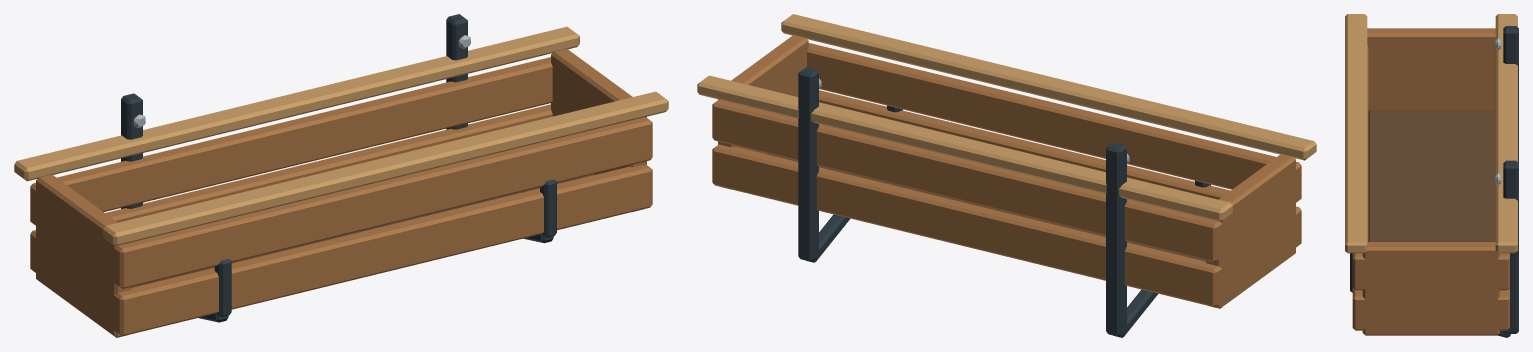
The model's file is b11_window_flower_box_empty.glb.
3 views of the same model, side by side, from view 1: azimuth 30°, elevation 25°; view 2: azimuth 150°, elevation 25°; view 3: azimuth 270°, elevation 25° (orthographic). The views are drawn at different scales.
Parts seen in each view (by area): view 1: b11_window_flower_box_empty; view 2: b11_window_flower_box_empty; view 3: b11_window_flower_box_empty.
Part boxes in pixels (x1,y1,x2,y2): b11_window_flower_box_empty: (14, 14, 668, 337); b11_window_flower_box_empty: (697, 14, 1316, 337); b11_window_flower_box_empty: (1345, 14, 1518, 337).
Size of the model in its own units: 1.23 by 0.4318 by 0.3925.
